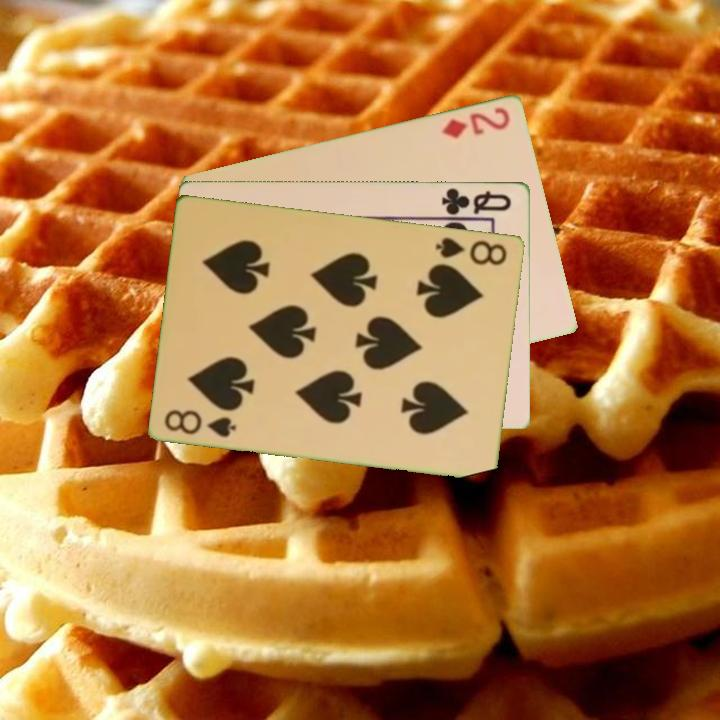2d: (438, 103, 513, 141)
8s: (432, 233, 511, 268), (161, 405, 240, 440)
Qc: (438, 184, 514, 218)
